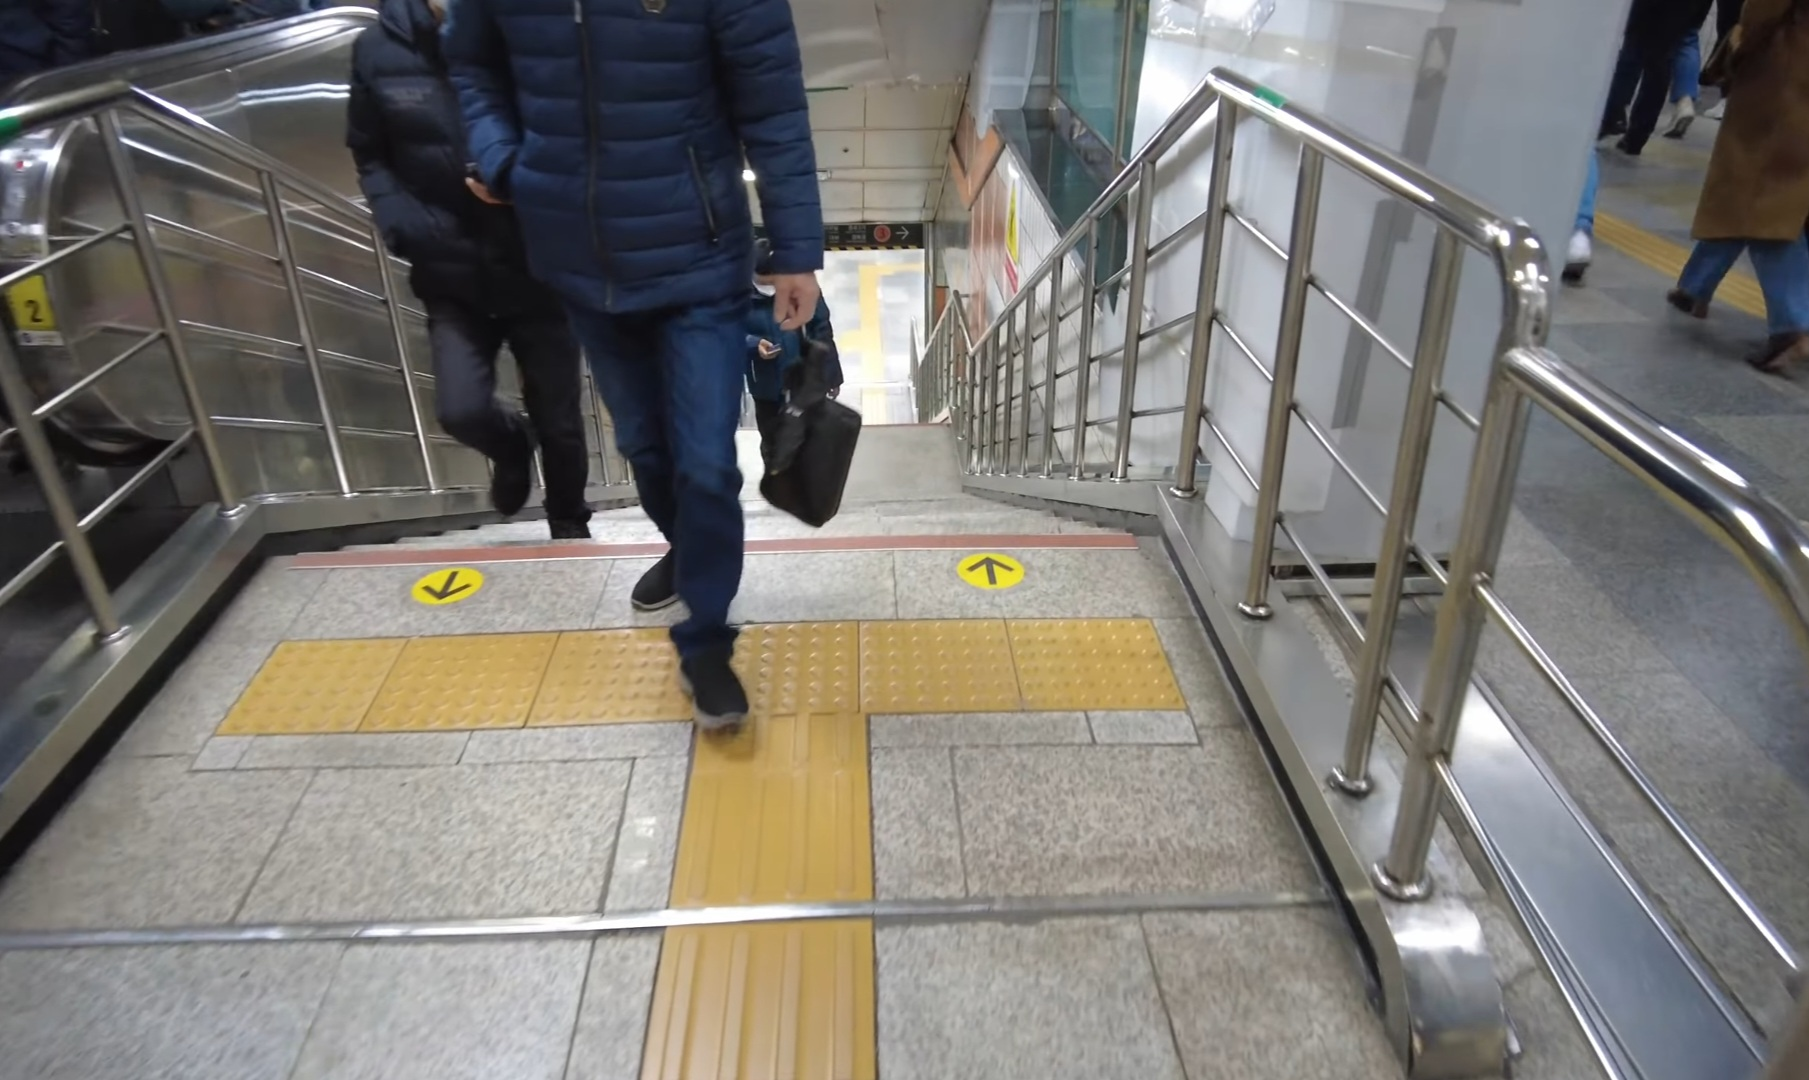guideBlock: (689, 768, 890, 918), (666, 940, 877, 1080), (705, 720, 868, 777)
warningBlock: (543, 635, 723, 738), (1011, 622, 1182, 714), (876, 618, 1021, 714), (386, 645, 530, 741), (726, 618, 867, 714), (262, 651, 384, 728)
